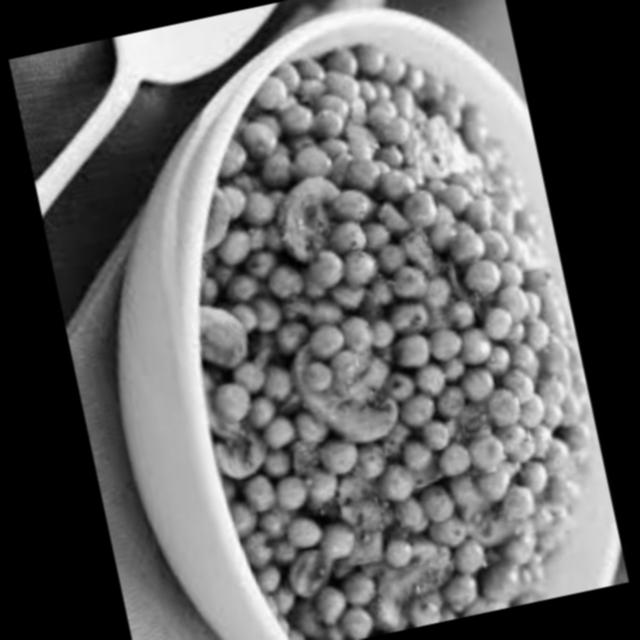peas: (417, 286, 618, 594), (348, 0, 534, 195), (212, 221, 376, 381), (233, 411, 347, 586), (238, 78, 409, 192), (438, 177, 554, 300), (372, 434, 461, 594), (382, 292, 468, 449), (340, 207, 434, 314), (222, 158, 300, 258), (325, 569, 404, 640), (409, 580, 474, 626)
